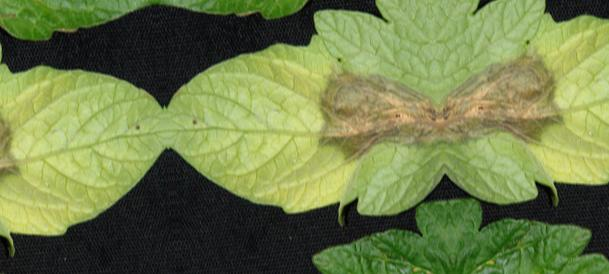Tomato mold leaf: (155, 0, 448, 231), (177, 216, 469, 274), (140, 0, 430, 30)
